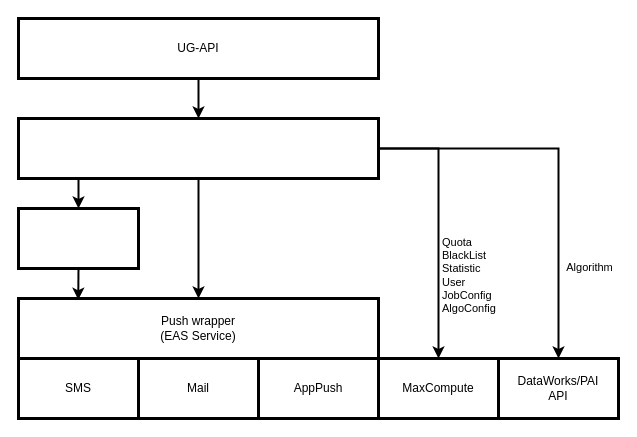
This 637x437 diagram has some shape labels left out. The shapes that lost their labels are listed below. From the top down, each one's centre as x and y in pixels, then its label:
At (198,148): "UG Service".
At (78,238): "CronJob (Audit/Check/Push)".
